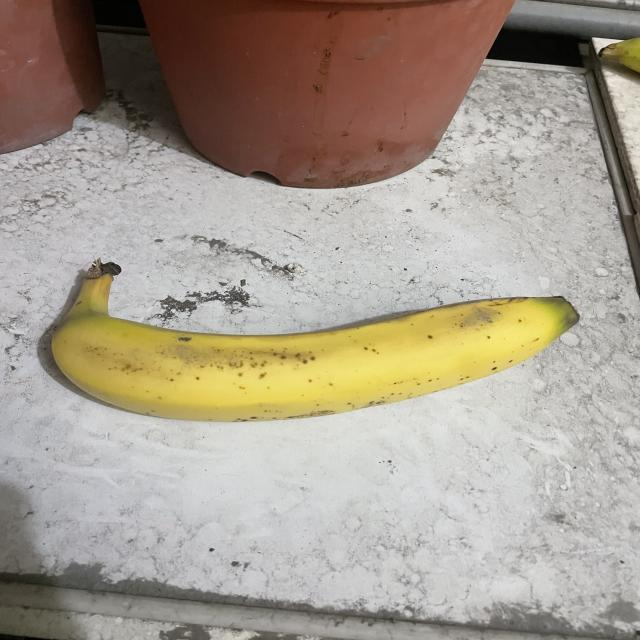Banana: (37, 252, 584, 427)
